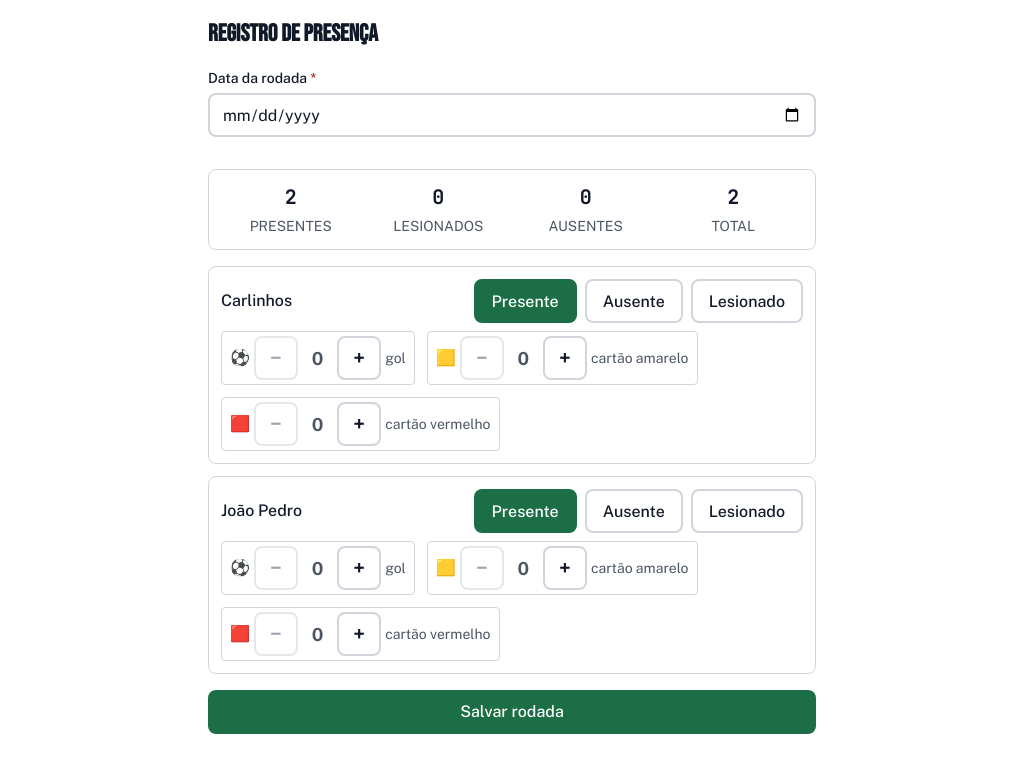
it: LancamentoRodadaForm › Salvar rodada abre o modal de confirmação com o resumo agregado (preserva a intenção de RNF-10)
The width and height of the screenshot is (1024, 768).
Expected: the heading "Registro de presença" is shown, top-left (208, 19), bottom-right (378, 48)
Click the radio button labelled "Ausente" in the row of "João Pedro" at coordinates (634, 511), box top-left (585, 489), bottom-right (683, 533)
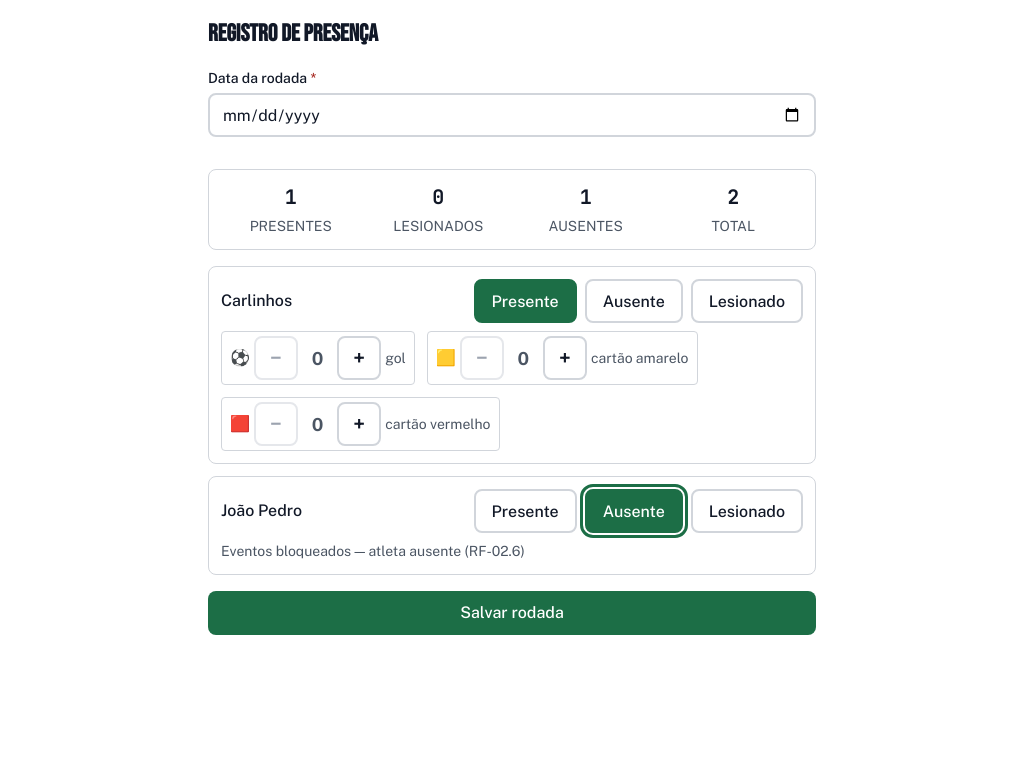
Click the button named "Aumentar Gols de Carlinhos" at coordinates (359, 358), box top-left (337, 336), bottom-right (381, 380)
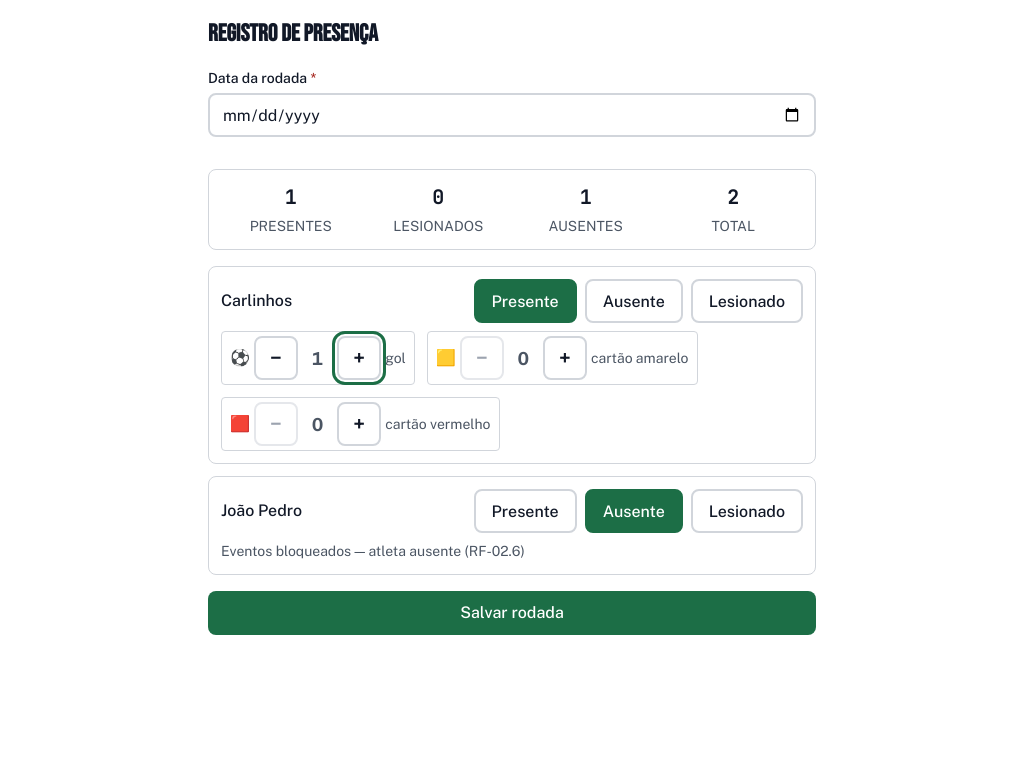
Click the button named "Aumentar Cartões amarelos de Carlinhos" at coordinates (565, 358), box top-left (543, 336), bottom-right (587, 380)
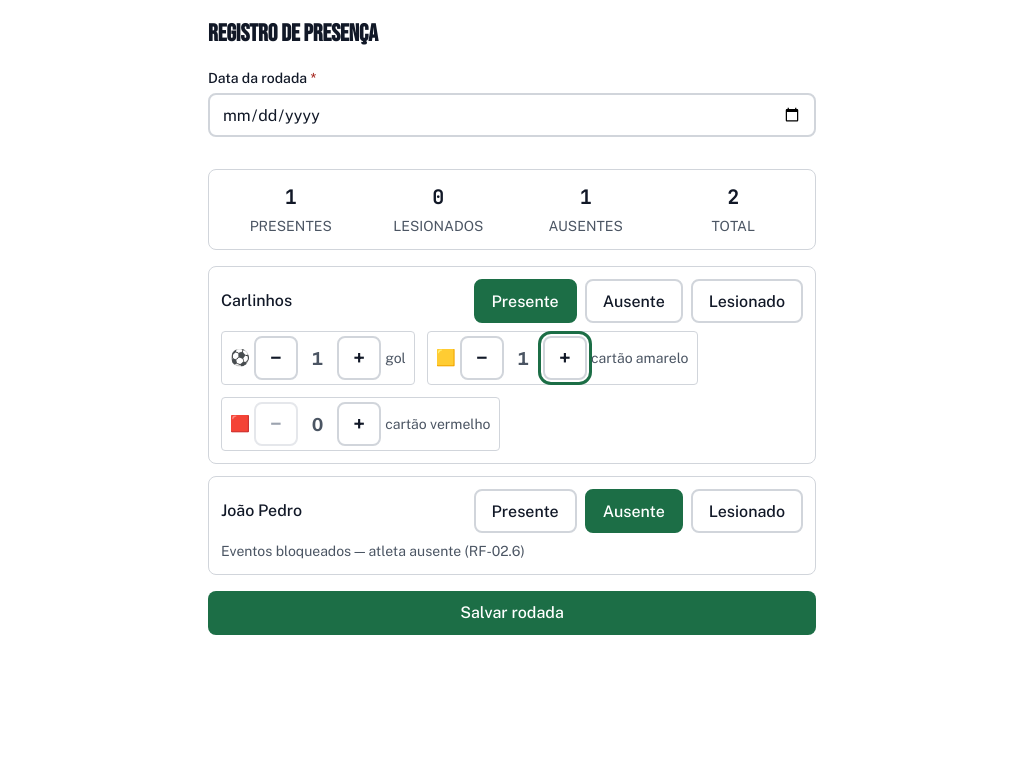
Expected: the heading "Registro de presença" is shown, top-left (208, 19), bottom-right (378, 48)
Type "2026-09-05" into the date field labelled "Data da rodada *" at coordinates (512, 115), box top-left (208, 93), bottom-right (816, 137)
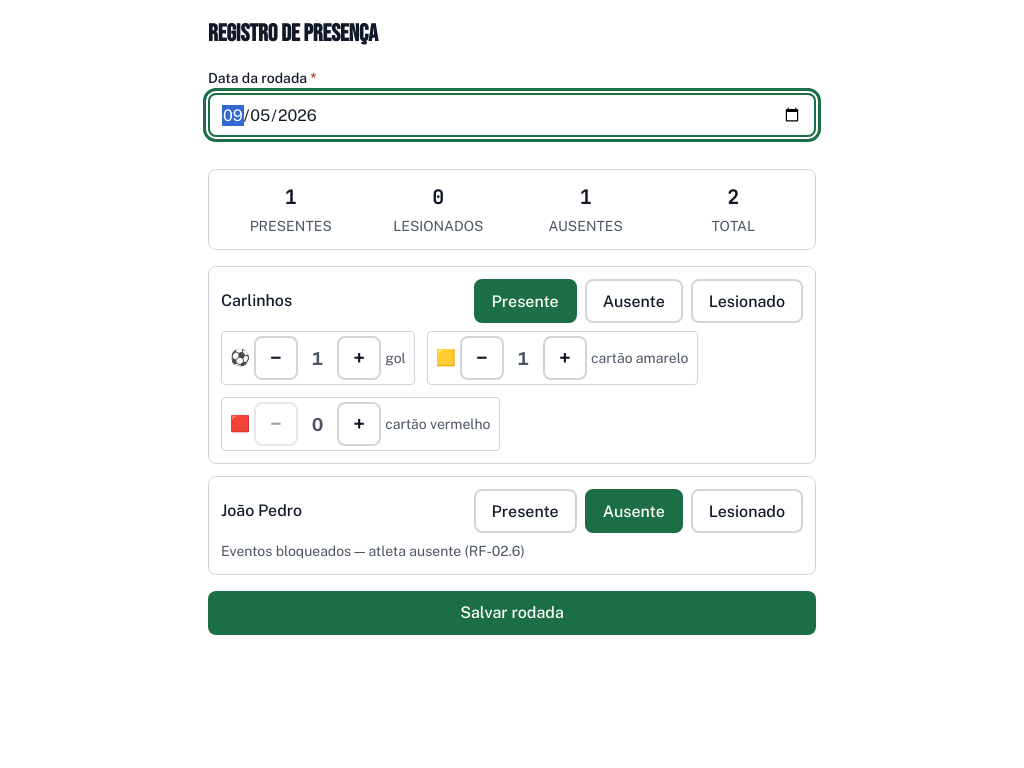
Click the button "Salvar rodada" at coordinates (512, 613), box top-left (208, 591), bottom-right (816, 635)
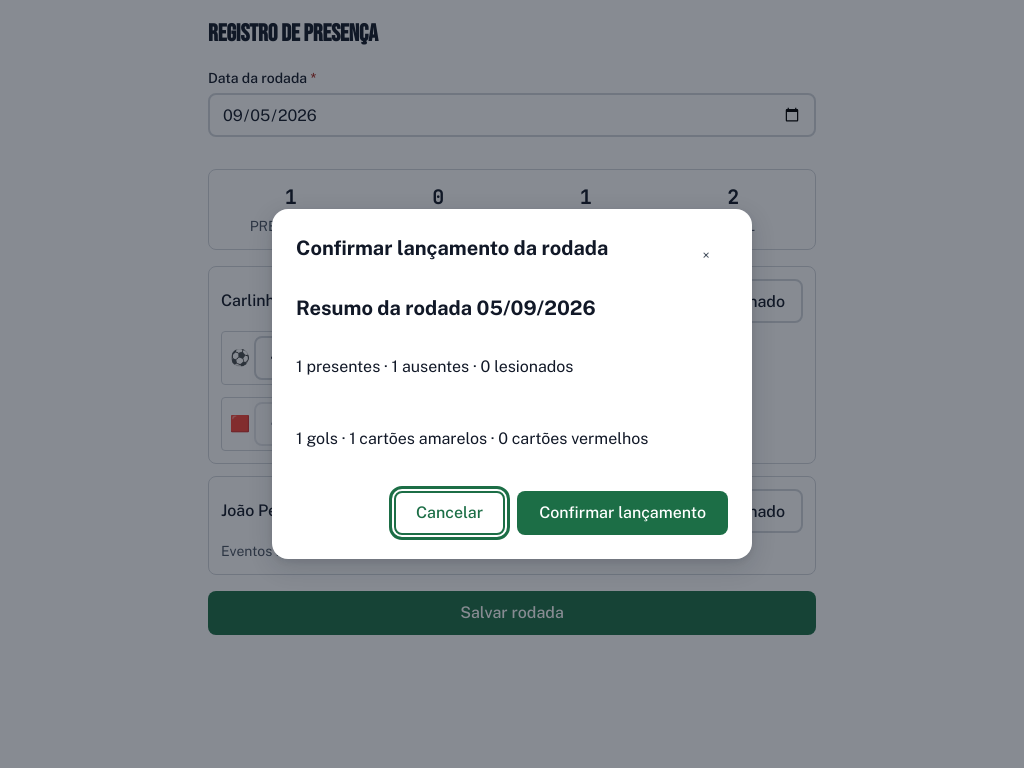
Now the heading "Resumo da rodada 05/09/2026" is shown, box top-left (296, 296), bottom-right (596, 320)
Now the text "1 presentes · 1 ausentes · 0 lesionados" is shown, box top-left (296, 357), bottom-right (573, 376)
Now the text "1 gols · 1 cartões amarelos · 0 cartões vermelhos" is shown, box top-left (296, 429), bottom-right (648, 448)
